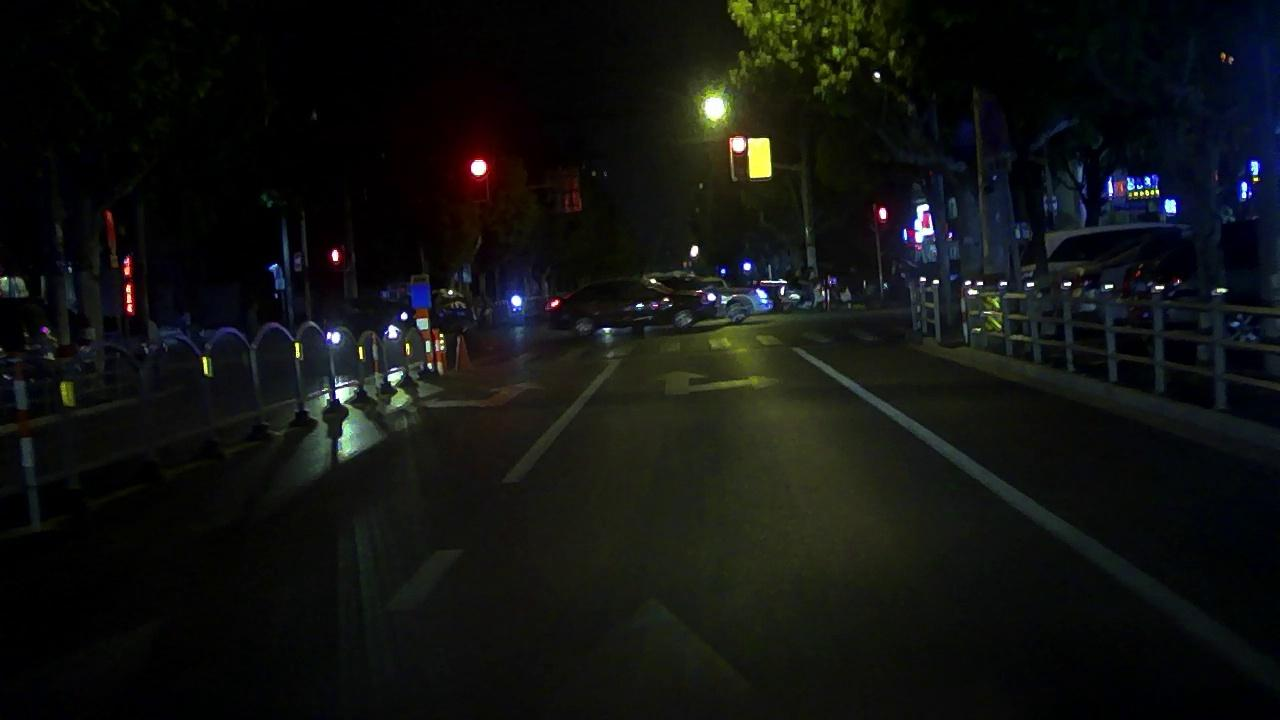traffic_light: (467, 155, 488, 198), (730, 135, 748, 181)
